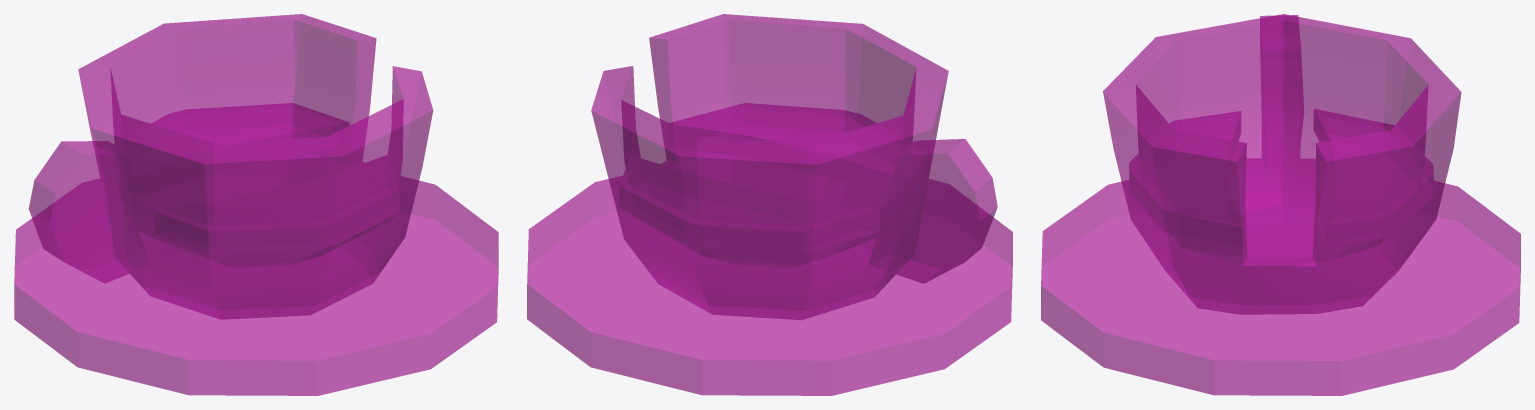
Rendered from SM_Prop_Teacup_Ride_01_Teacup_01_Collision.fbx.
3 views of the same model, side by side, from view 1: azimuth 30°, elevation 25°; view 2: azimuth 150°, elevation 25°; view 3: azimuth 270°, elevation 25° (orthographic).
Parts seen in each view (by area): view 1: SM_Prop_Teacup_Ride_01_Teacup_01_Collision; view 2: SM_Prop_Teacup_Ride_01_Teacup_01_Collision; view 3: SM_Prop_Teacup_Ride_01_Teacup_01_Collision.
Boxes of the visible parts, box(x1,y1,x2,y2) form: SM_Prop_Teacup_Ride_01_Teacup_01_Collision: box(14, 14, 498, 395); SM_Prop_Teacup_Ride_01_Teacup_01_Collision: box(527, 14, 1012, 395); SM_Prop_Teacup_Ride_01_Teacup_01_Collision: box(1041, 14, 1520, 395).
Size of the model in its own units: 273 by 128 by 267.
